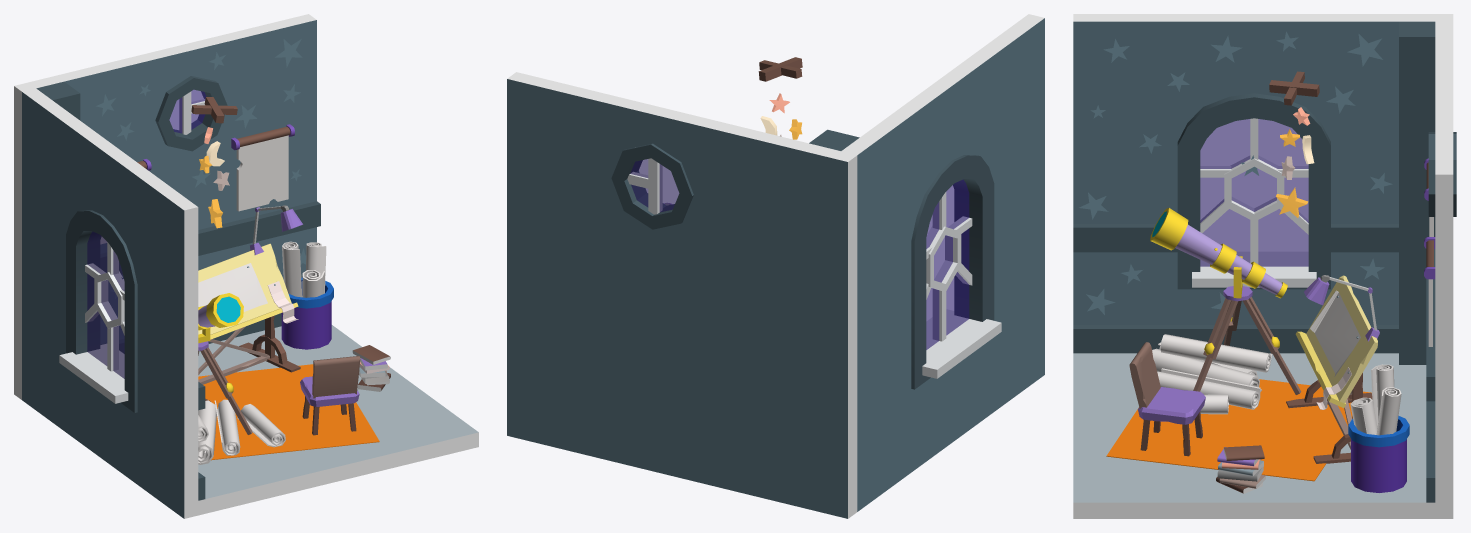
The model's file is activity.glb.
3 renders of one model, left to right at view 1: azimuth 30°, elevation 25°; view 2: azimuth 150°, elevation 25°; view 3: azimuth 270°, elevation 25°, orthographic. The views are drawn at different scales.
Visible parts, largest first — view 1: wall_067.005, wall_139.001, wall_067.011, wall_067.006, window_043.001, wall_067.004, carpet_011.001, easel_001.001, wall_067.007, wall_067.003, picture_020.001, window_042.001 (+16 smaller); view 2: wall_067.004, wall_067.011, wall_067.006, wall_067.005, wall_067.010, window_043.001, wall_067.007, wall_067.003, window_042.001, wall_067.012, candle_011.001, wall_156.001; view 3: wall_067.005, wall_139.001, window_043.001, wall_067.006, carpet_011.001, wall_067.007, wall_156.001, easel_001.001, wall_067.011, telescope_001.001, wall_156.002, chair_035.001 (+20 smaller).
Part boxes in pixels (x1,y1,x2,y2): wall_067.005: (135, 171, 198, 518); wall_139.001: (198, 325, 478, 515); wall_067.011: (211, 14, 316, 279); wall_067.006: (22, 88, 84, 435); window_043.001: (59, 210, 137, 412); wall_067.004: (14, 51, 162, 399); carpet_011.001: (198, 364, 379, 460); easel_001.001: (198, 205, 302, 401); wall_067.007: (70, 124, 149, 252); wall_067.003: (70, 371, 135, 482); picture_020.001: (231, 124, 294, 211); window_042.001: (155, 76, 227, 151); wall_067.004: (685, 115, 857, 518); wall_067.011: (507, 72, 629, 463); wall_067.006: (841, 110, 913, 511); wall_067.005: (972, 14, 1044, 415); wall_067.010: (620, 213, 685, 479); window_043.001: (911, 155, 1001, 389); wall_067.007: (898, 55, 988, 204); wall_067.003: (913, 341, 988, 470); window_042.001: (611, 143, 693, 229); wall_067.012: (620, 100, 694, 159); candle_011.001: (758, 57, 802, 139); wall_156.001: (809, 129, 859, 150); wall_067.005: (1073, 14, 1181, 324); wall_139.001: (1073, 353, 1435, 518); window_043.001: (1177, 93, 1330, 289); wall_067.006: (1326, 14, 1435, 324); carpet_011.001: (1106, 379, 1371, 481); wall_067.007: (1182, 14, 1326, 109); wall_156.001: (1399, 21, 1435, 364); easel_001.001: (1286, 275, 1379, 463); wall_067.011: (1435, 121, 1453, 518); telescope_001.001: (1150, 208, 1301, 394); wall_156.002: (1073, 325, 1398, 353); chair_035.001: (1129, 342, 1205, 456).
Size of the model in its own units: 4.43 by 4.23 by 4.24.
4 materials, 4 textured.
